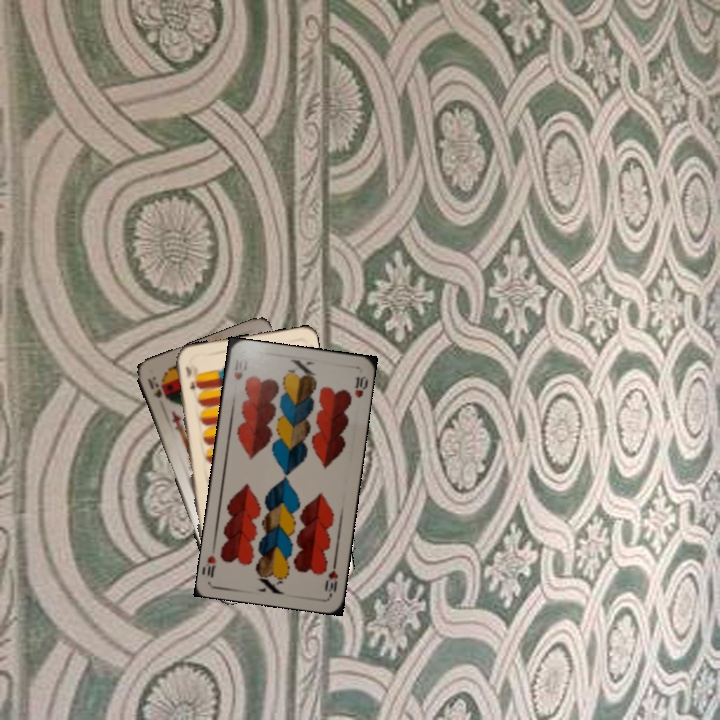E10: (182, 362, 198, 392)
H10: (320, 557, 341, 597), (230, 355, 245, 382)
SK: (143, 372, 164, 400)
